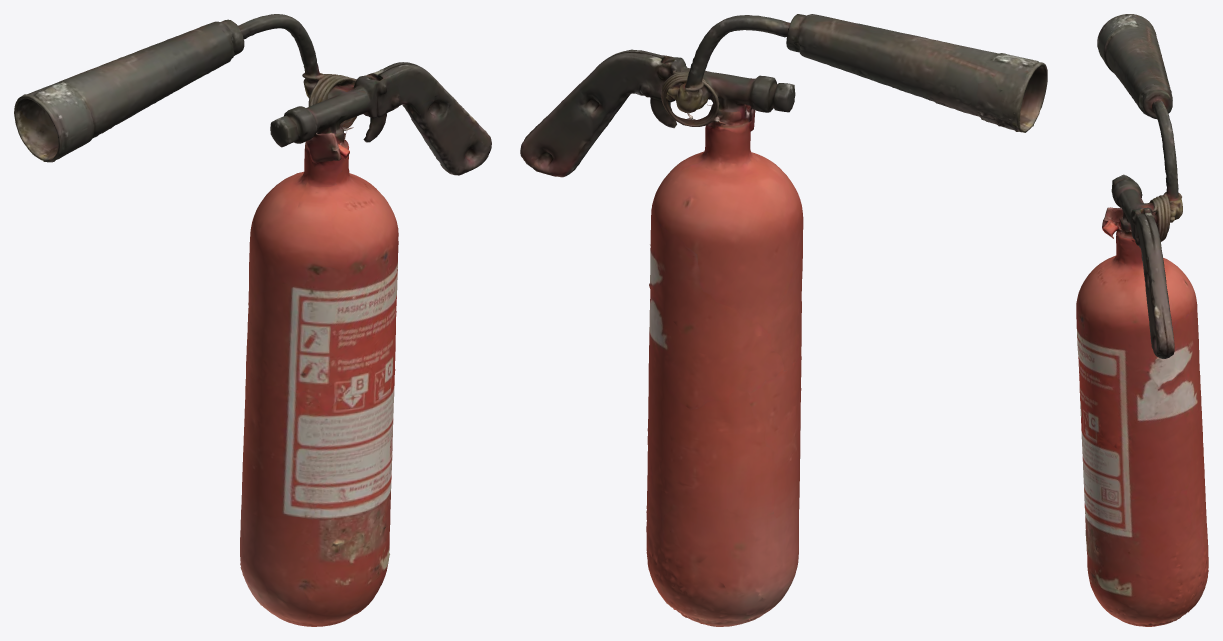
Rendered from fire_extinguisher.glb.
3 views of the same model, side by side, from view 1: azimuth 30°, elevation 25°; view 2: azimuth 150°, elevation 25°; view 3: azimuth 270°, elevation 25° (orthographic). The views are drawn at different scales.
Visible parts, largest first — view 1: hasicak; view 2: hasicak; view 3: hasicak.
Boxes of the visible parts, left/top/right/bottom form: hasicak: left=14, top=14, right=491, bottom=626; hasicak: left=520, top=14, right=1047, bottom=626; hasicak: left=1076, top=14, right=1208, bottom=626.
Bounding box in the file's own units: 0.5405 × 0.6602 × 0.1582.
Materials: 1 (1 with a texture image).
